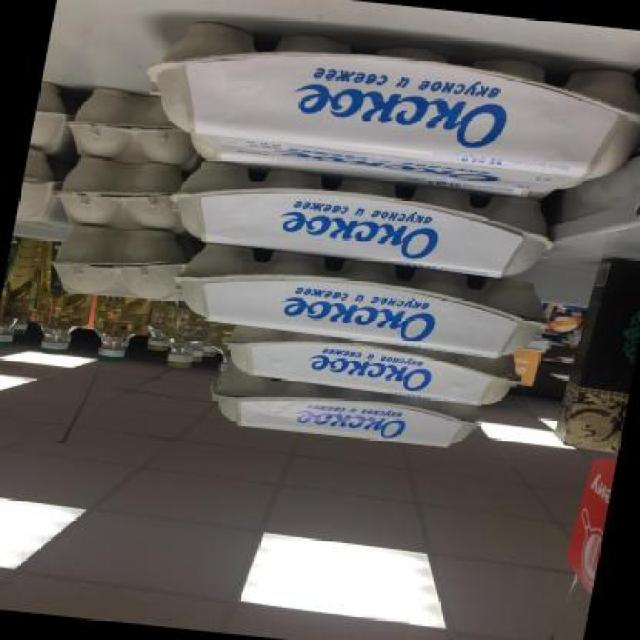Egg: (132, 13, 640, 199), (162, 156, 570, 284), (164, 242, 550, 360), (220, 326, 523, 408), (205, 372, 490, 454), (42, 220, 196, 317), (60, 85, 202, 170), (47, 155, 195, 233), (22, 239, 106, 366), (140, 297, 222, 378), (83, 293, 155, 370), (0, 232, 43, 356)
